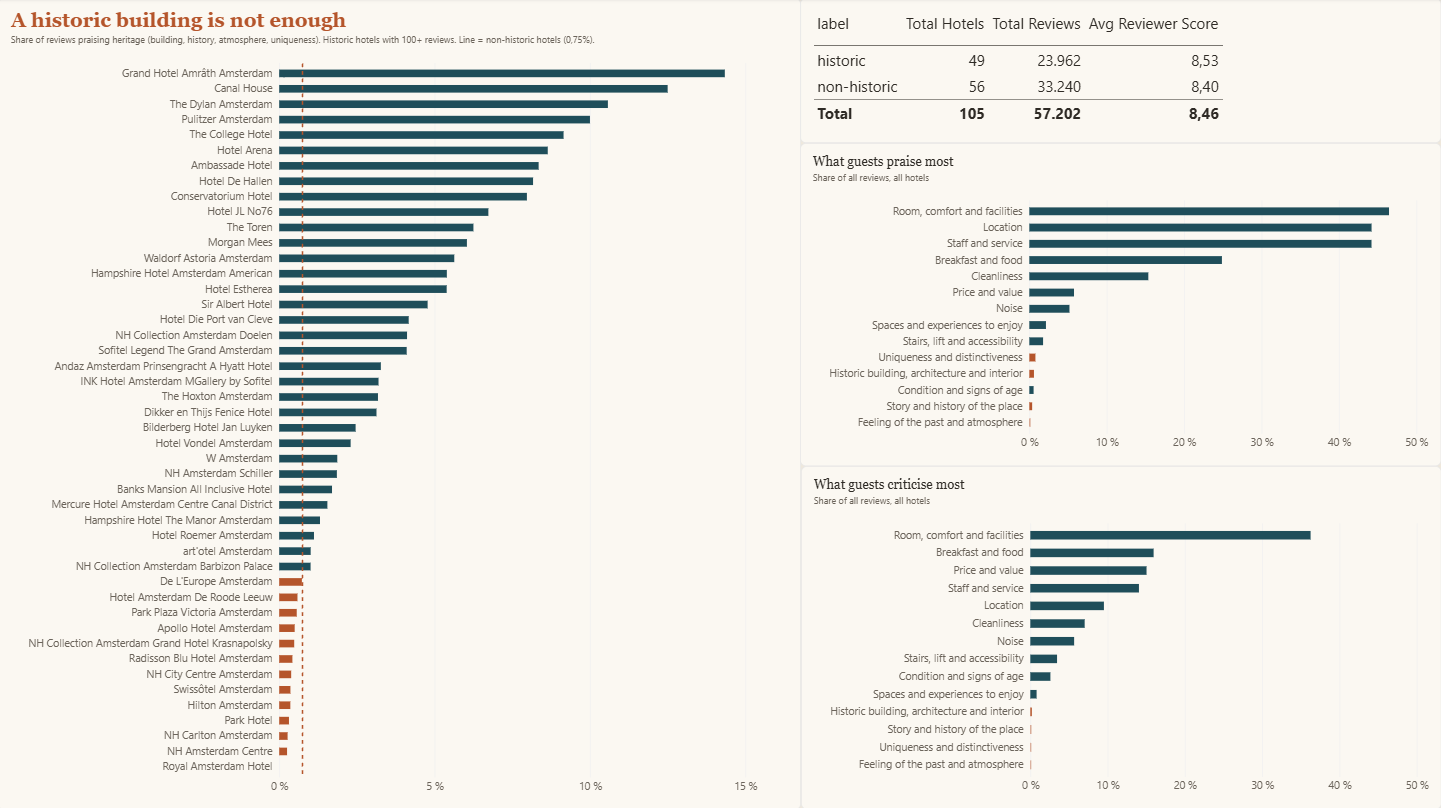

The dashboard page shown, as its layout file describes it:
{"tool":"powerbi","page":{"name":"Overview","canvas":[1920,1080],"ordinal":1},"visuals":[{"type":"tableEx","fields":{"Values":["amsterdam_hotels.label","amsterdam_hotels.Total Hotels","amsterdam_reviews_clean.Total Reviews","amsterdam_reviews_clean.Avg Reviewer Score"]},"box":[1067.1,0,852.9,192.9],"z":0},{"type":"clusteredBarChart","title":"A historic building is not enough","fields":{"Category":["amsterdam_hotels.hotel_display_name"],"Y":["review_theme_matches.% of Reviews"]},"box":[0,0,1068.3,1080],"z":1000},{"type":"clusteredBarChart","title":"What guests praise most","fields":{"Category":["themes.theme"],"Y":["review_theme_matches.% of Reviews"]},"box":[1067.1,192.9,852.9,430],"z":2000},{"type":"barChart","title":"What guests criticise most","fields":{"Category":["themes.theme"],"Y":["review_theme_matches.% of Reviews"]},"box":[1068,623,852,457],"z":3000}]}

Visuals, with their boxes in screenshot pixels (x1, y1, x2, y2), scaled from the page's 1920x1080 canvas onto the 1441x808 screenshot:
tableEx - amsterdam_hotels.label x amsterdam_hotels.Total Hotels: x1=801, y1=0, x2=1440, y2=144
"A historic building is not enough" clusteredBarChart: x1=0, y1=0, x2=802, y2=807
"What guests praise most" clusteredBarChart: x1=801, y1=144, x2=1440, y2=466
"What guests criticise most" barChart: x1=802, y1=466, x2=1440, y2=807
